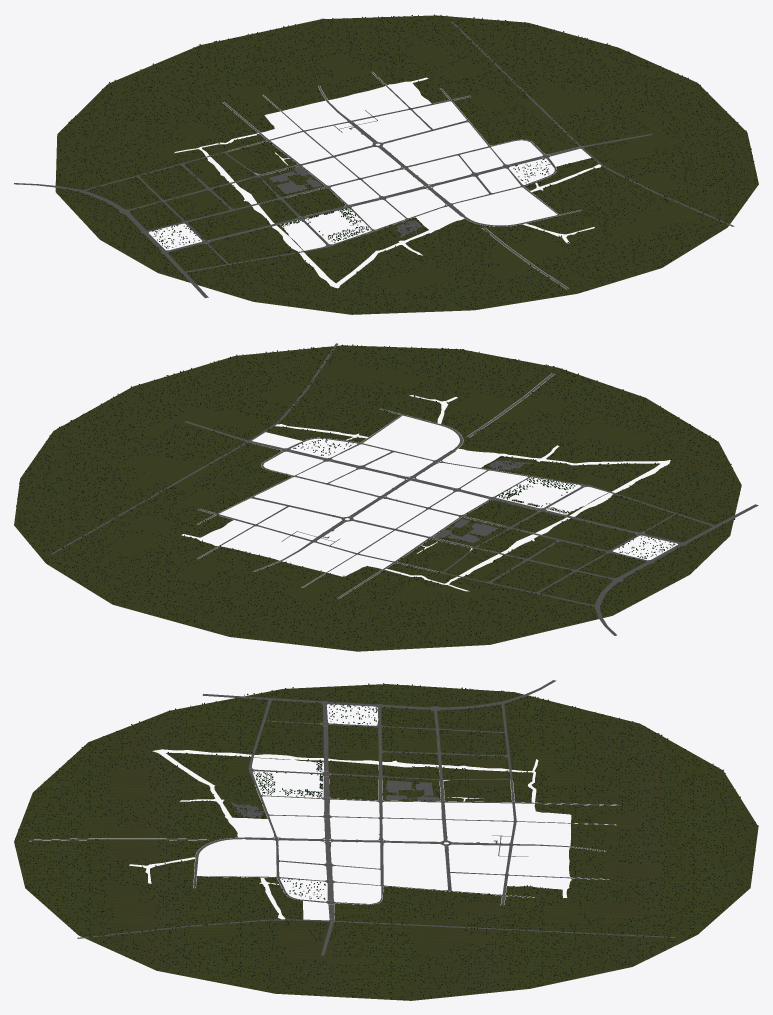
File: tree-road3.FBX
3 renders of one model, top to bottom at view 1: azimuth 30°, elevation 25°; view 2: azimuth 150°, elevation 25°; view 3: azimuth 270°, elevation 25°, orthographic. The views are drawn at different scales.
Parts seen in each view (by area): view 1: zhoubian006, tree27, zhugandao24; view 2: zhoubian006, tree27, zhugandao24; view 3: zhoubian006, tree27, zhugandao24.
Part boxes in pixels (left/top/right/bottom): zhoubian006: left=55, top=15, right=758, bottom=314; tree27: left=56, top=14, right=758, bottom=313; zhugandao24: left=14, top=21, right=734, bottom=297; zhoubian006: left=14, top=345, right=741, bottom=651; tree27: left=15, top=344, right=740, bottom=650; zhugandao24: left=51, top=343, right=758, bottom=635; zhoubian006: left=14, top=684, right=758, bottom=1000; tree27: left=15, top=683, right=758, bottom=999; zhugandao24: left=29, top=680, right=675, bottom=955.
Bounding box in the file's own units: 75.46 × 0.1807 × 74.04.
